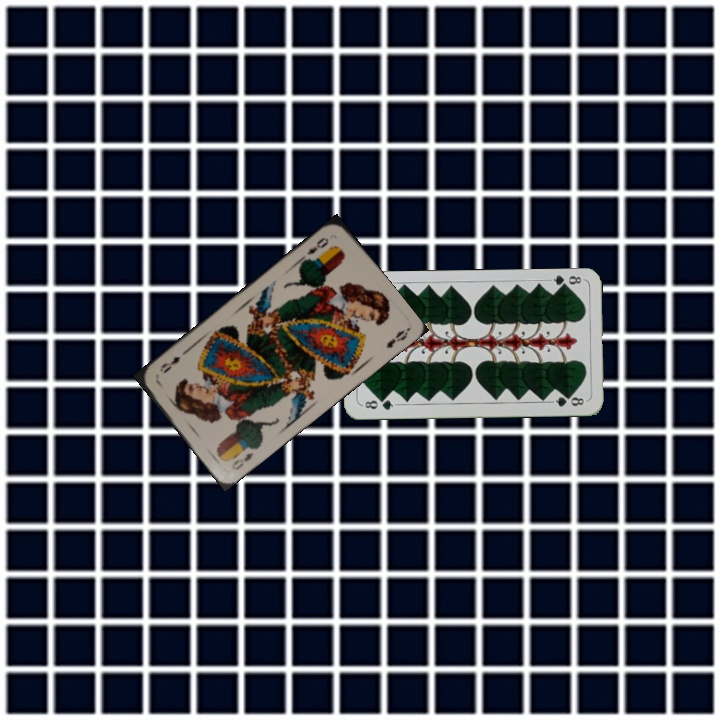EO: (227, 448, 256, 473), (303, 233, 331, 257)
G8: (545, 271, 586, 291), (358, 395, 399, 413)
